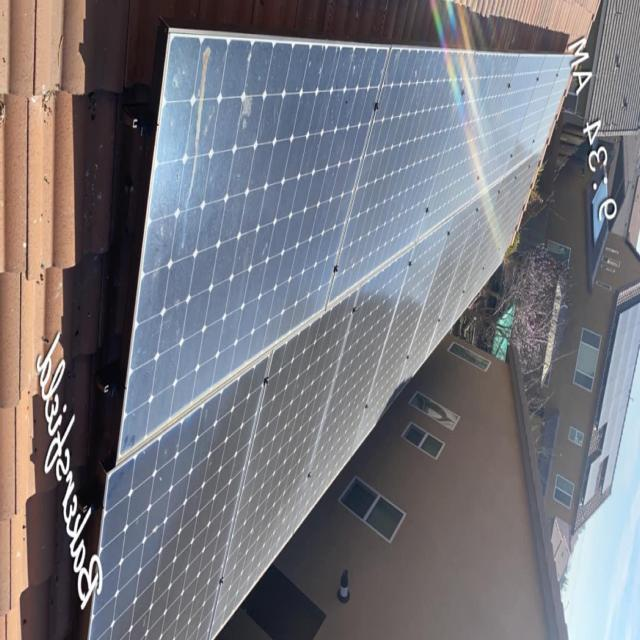soiled: (110, 31, 390, 458)
